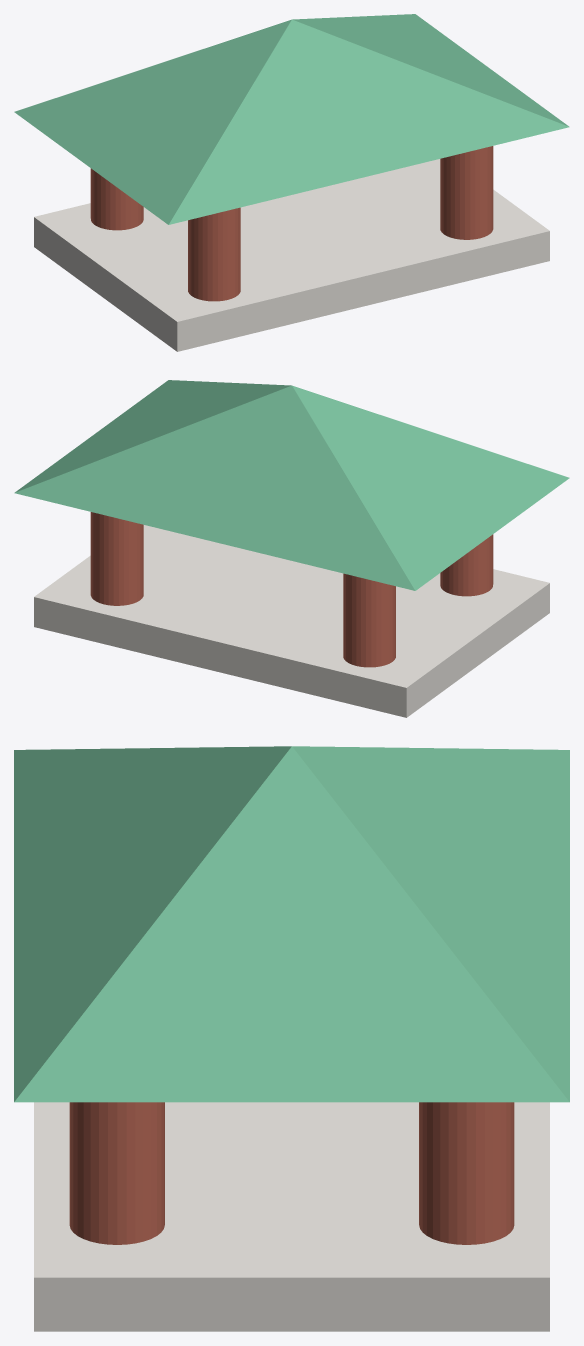
The model's file is 御花园.glb.
3 views of the same model, one above another, from view 1: azimuth 30°, elevation 25°; view 2: azimuth 150°, elevation 25°; view 3: azimuth 270°, elevation 25° (orthographic). The views are drawn at different scales.
Visible parts, largest first — view 1: roof, plat, pillar.001, pillar, pillar.003; view 2: roof, plat, pillar.002, pillar.003, pillar; view 3: roof, plat, pillar.001, pillar.002.
Part boxes in pixels (x1,y1,x2,y2): roof: [14, 14, 569, 224]; plat: [34, 159, 549, 351]; pillar.001: [440, 146, 493, 239]; pillar: [188, 207, 240, 301]; pillar.003: [90, 168, 143, 230]; roof: [14, 380, 569, 590]; plat: [34, 525, 549, 717]; pillar.002: [90, 512, 143, 605]; pillar.003: [343, 573, 395, 667]; pillar: [440, 534, 493, 596]; roof: [14, 746, 569, 1102]; plat: [34, 1102, 549, 1331]; pillar.001: [69, 1102, 164, 1244]; pillar.002: [419, 1102, 514, 1244].
Size of the model in its own units: 4.2 by 2.34 by 2.8.
